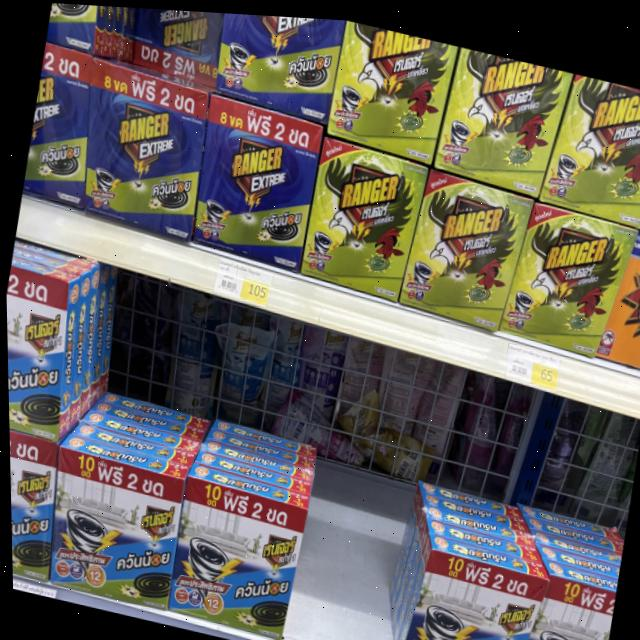empty_shelf: (62, 265, 347, 507), (283, 335, 448, 640), (431, 364, 640, 591)
